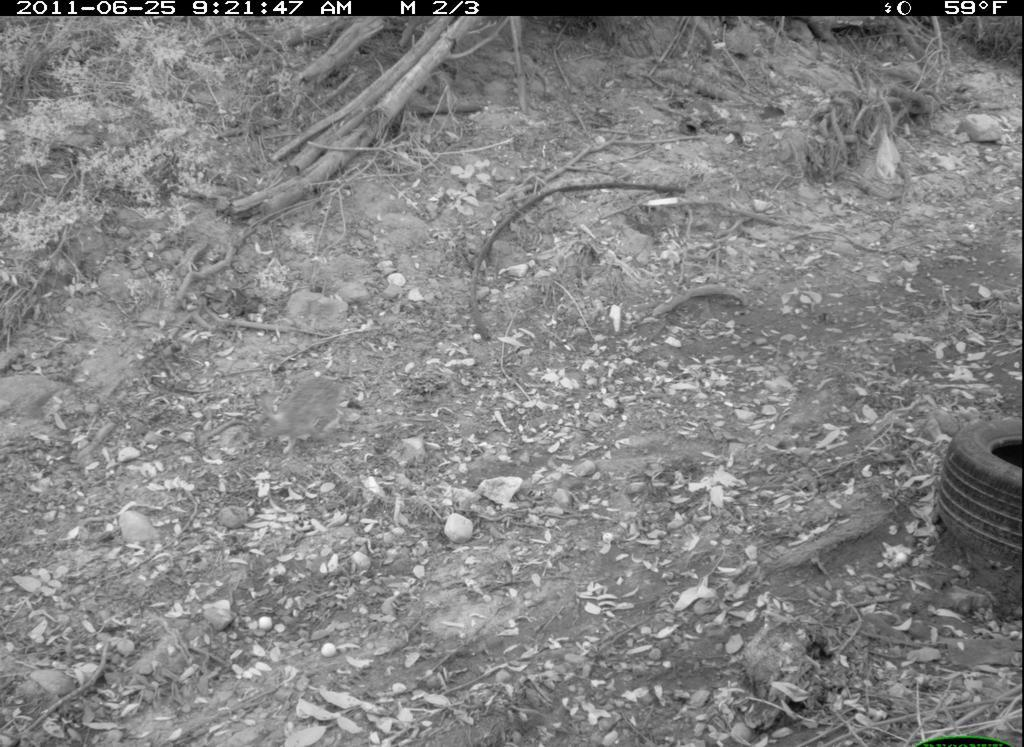rabbit: (255, 365, 351, 455)
